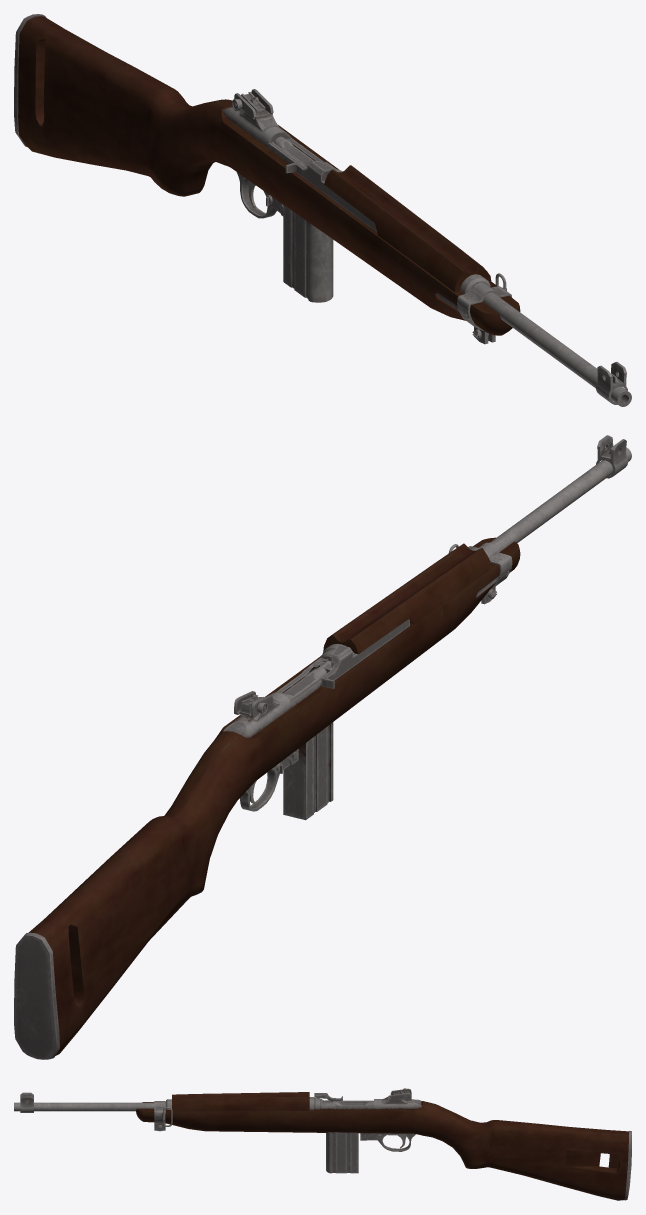
3 renders of one model, top to bottom at view 1: azimuth 30°, elevation 25°; view 2: azimuth 150°, elevation 25°; view 3: azimuth 270°, elevation 25°, orthographic. The views are drawn at different scales.
Visible parts, largest first — view 1: Body_Material #43; view 2: Body_Material #43; view 3: Body_Material #43.
Boxes of the visible parts, box(x1,y1,x2,y2) form: Body_Material #43: box(14, 14, 631, 406); Body_Material #43: box(14, 435, 631, 1059); Body_Material #43: box(14, 1088, 631, 1200).
Bounding box in the file's own units: 0.0435 × 0.1747 × 0.904.
Materials: 1 (1 with a texture image).
